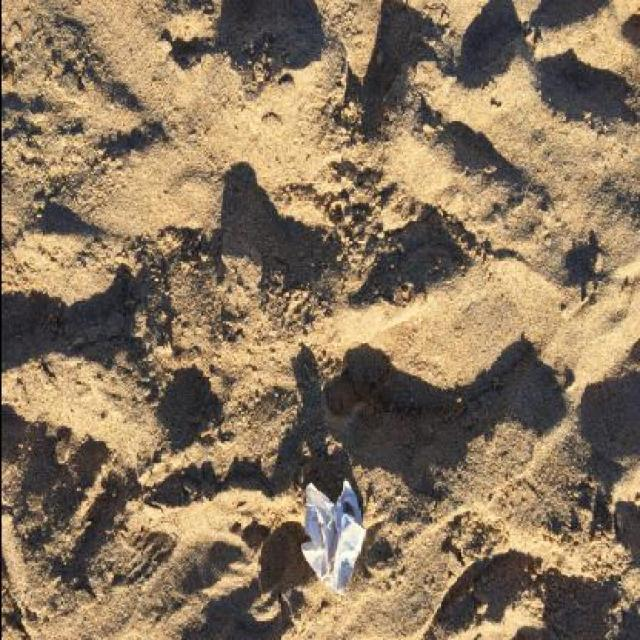paper: (299, 478, 366, 596)
